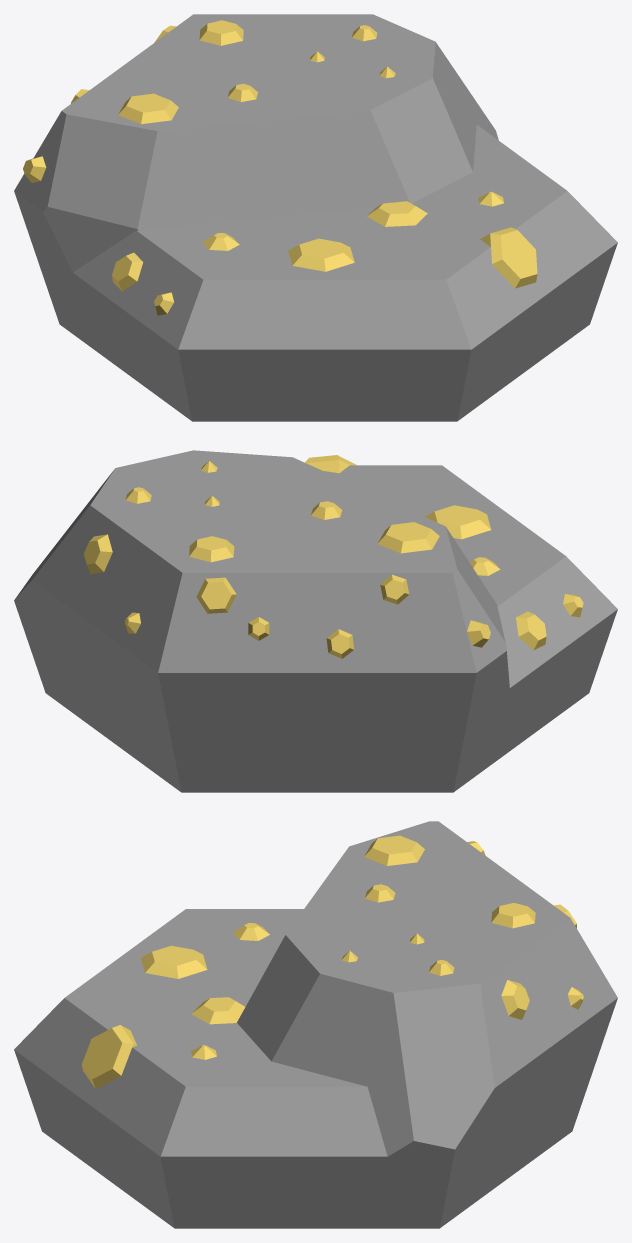
File: arany_asvany.glb
3 views of the same model, one above another, from view 1: azimuth 30°, elevation 25°; view 2: azimuth 150°, elevation 25°; view 3: azimuth 270°, elevation 25° (orthographic). The views are drawn at different scales.
Parts seen in each view (by area): view 1: arany_asvany; view 2: arany_asvany; view 3: arany_asvany.
Part boxes in pixels (x1,y1,x2,y2): arany_asvany: (14,14,617,421); arany_asvany: (14,450,617,792); arany_asvany: (14,821,617,1228).
Bounding box in the file's own units: 17.95 × 8.3 × 20.5.
